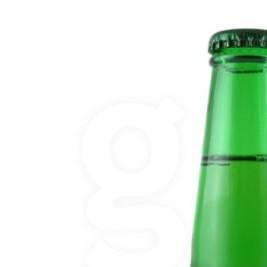beer: (191, 29, 267, 266)
